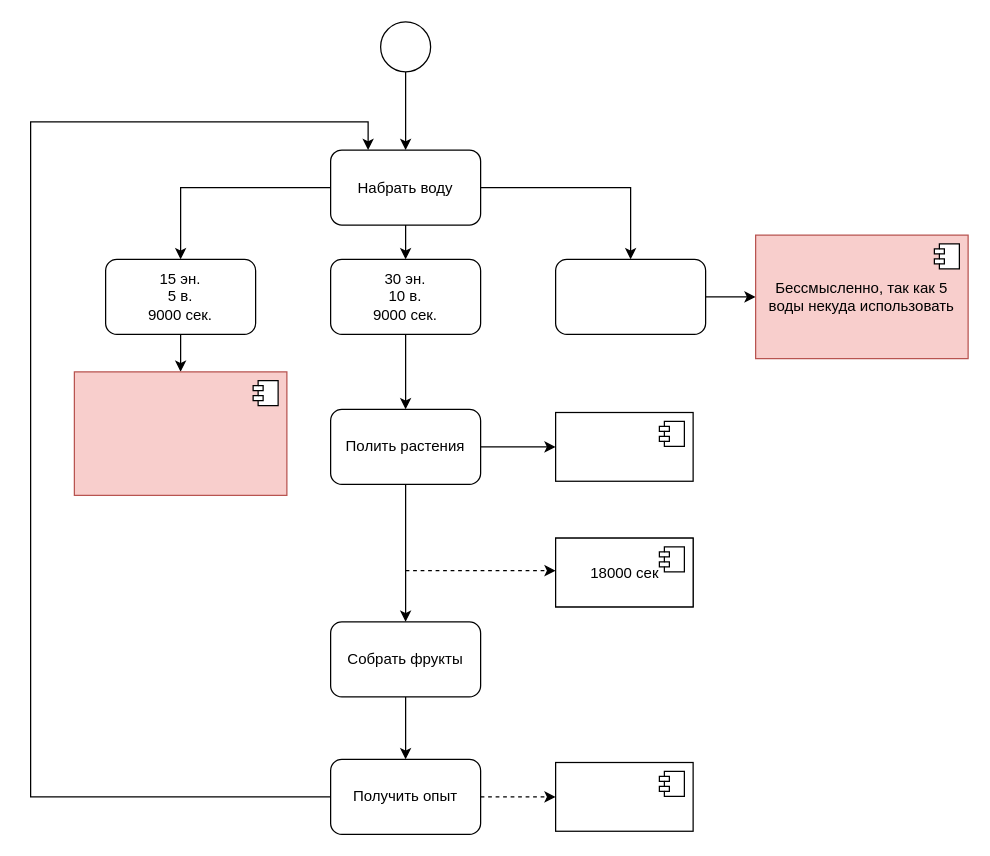
Some shapes in this 990 by 856 pixel diagram are drawn without their labels. Each missing label, with the centre of its shape:
"-10 в. -10 эн." belongs at (x=623, y=446).
"45 эн. 15 в. 9000 сек." belongs at (x=630, y=296).
"90 опыта" belongs at (x=623, y=796).
"Вход" belongs at (x=405, y=46).
"Этот вариант рассматривать не будем, так как он не оптимален в рамках эвента." belongs at (x=180, y=433).
